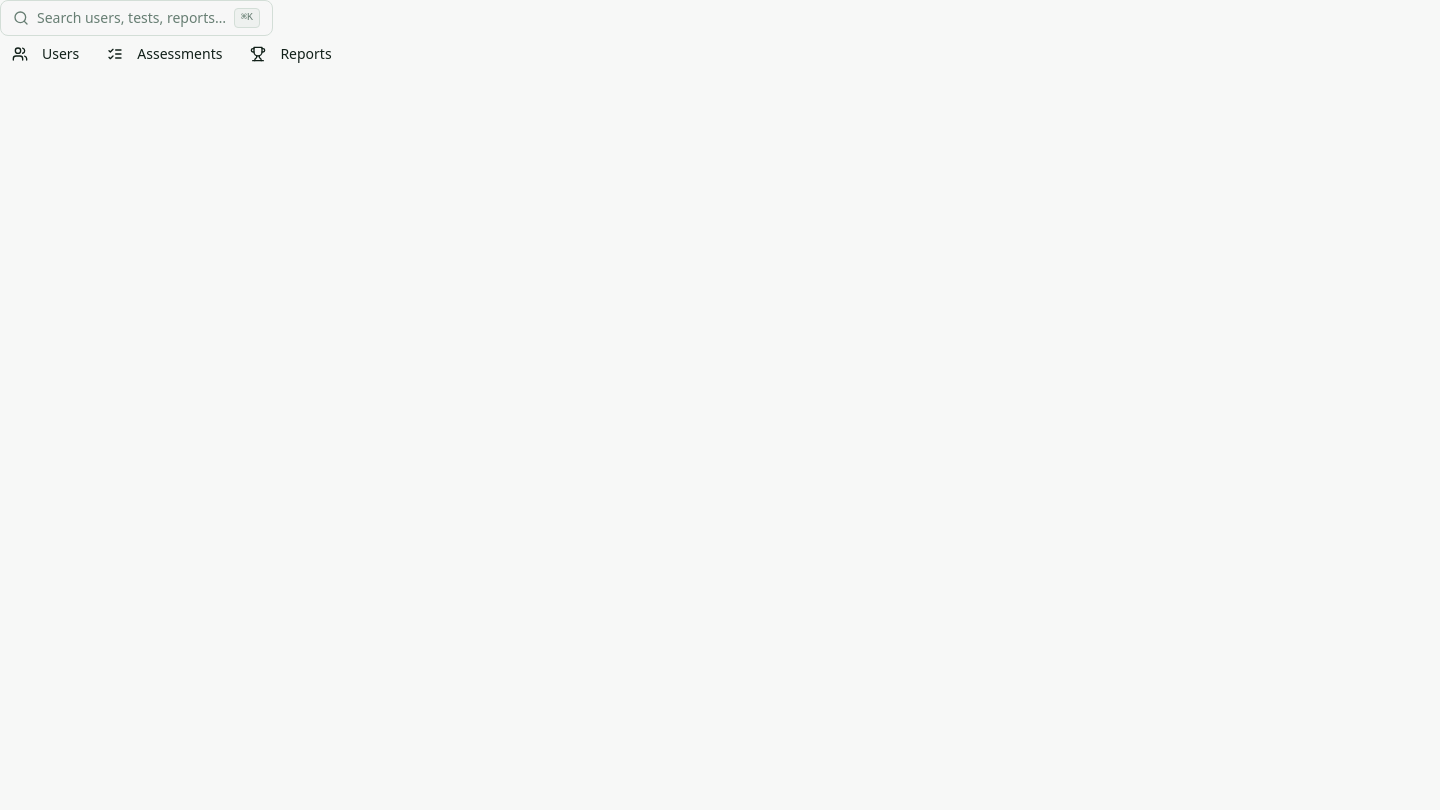
AdminTopNav command palette › closes on Escape (focus returns to the document)
Click the button with aria-label "open global search".
click(136, 18)  # box [0,0,273,36]
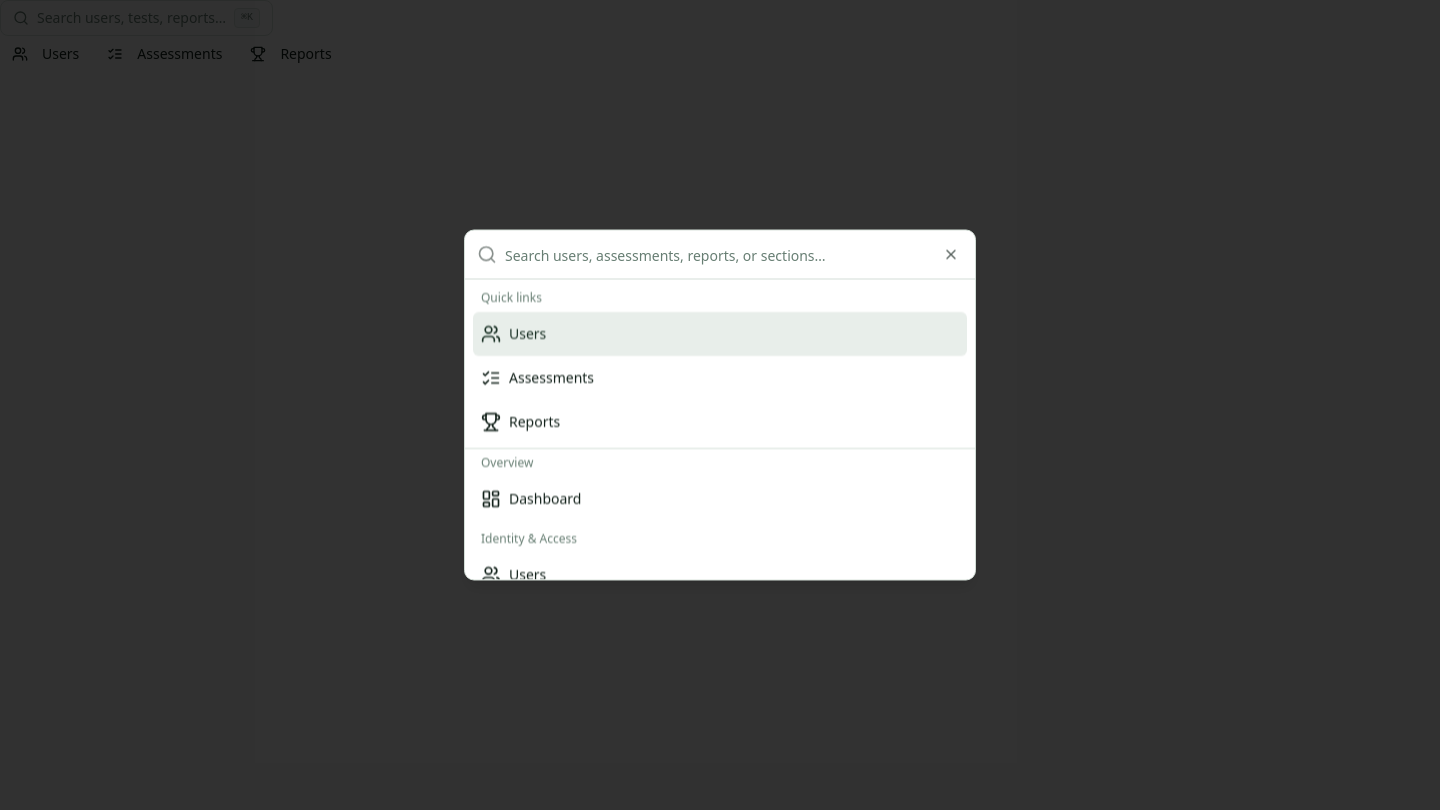
Check: the dialog is shown, box [464,230,976,580]
Press Escape
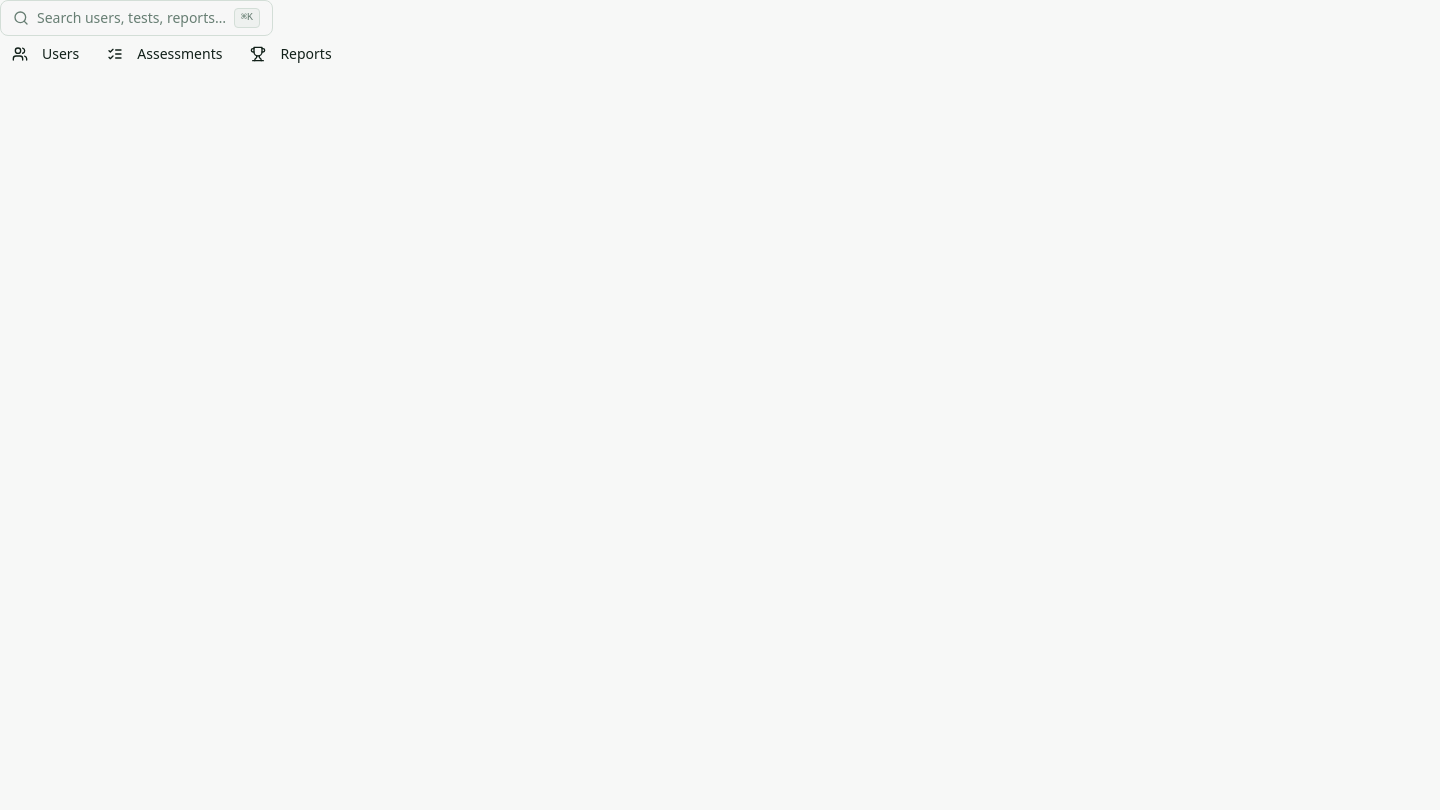
Check: the dialog is gone
